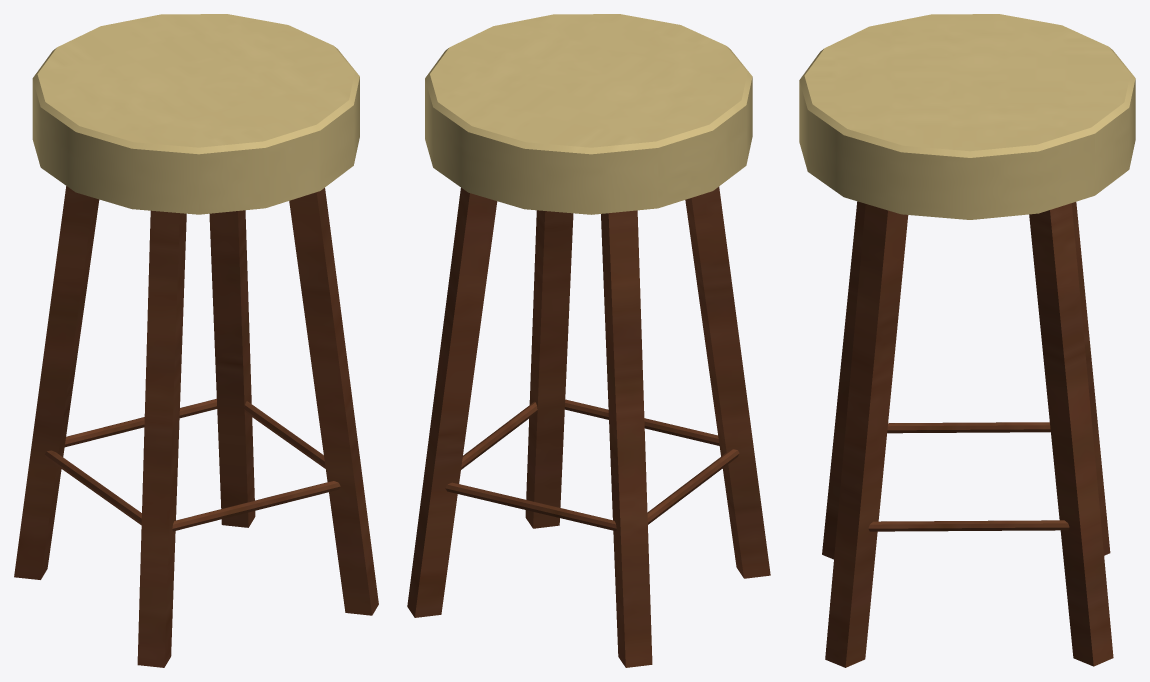
Rendered from Chair_1.fbx.
The picture shows the model from 3 angles, left to right: view 1: azimuth 30°, elevation 25°; view 2: azimuth 150°, elevation 25°; view 3: azimuth 270°, elevation 25°; orthographic projection. The views are drawn at different scales.
Visible parts, largest first — view 1: Chair_1; view 2: Chair_1; view 3: Chair_1.
Boxes of the visible parts, <box> form: Chair_1: <box>14,14,378,667</box>; Chair_1: <box>407,14,770,667</box>; Chair_1: <box>799,14,1135,667</box>.
Bounding box in the file's own units: 44.28 × 76.6 × 44.46.
